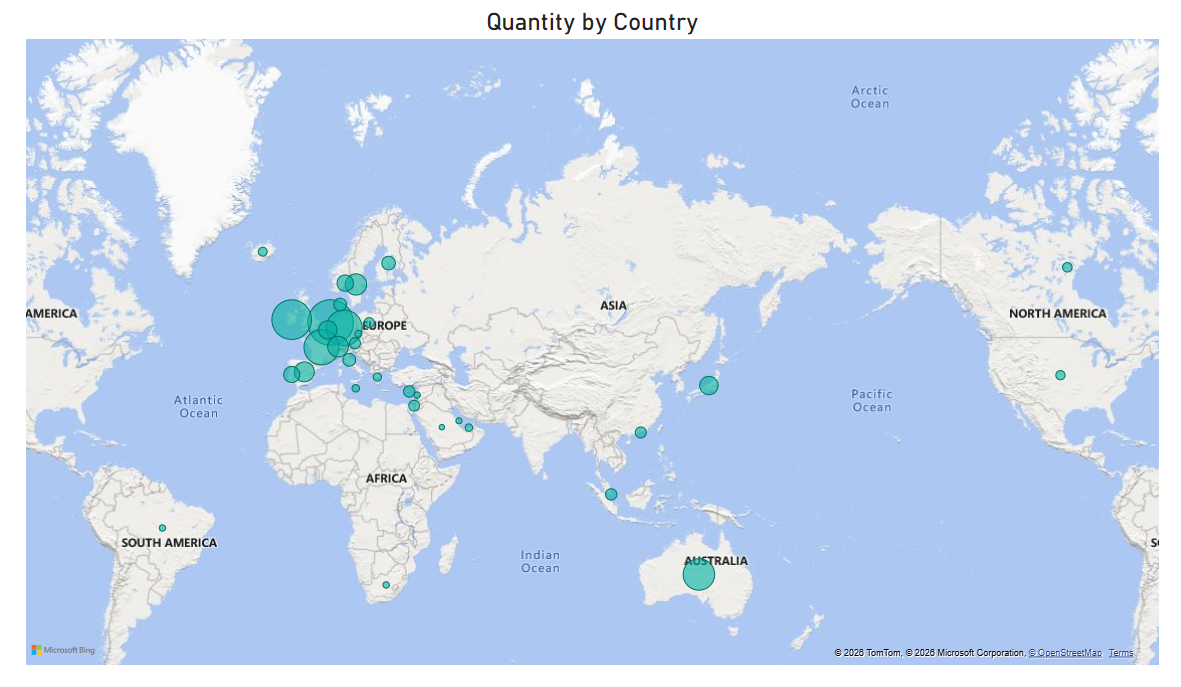

The dashboard page shown, as its layout file describes it:
{"tool":"powerbi","page":{"name":"Question 4","canvas":[1280,720],"ordinal":3},"visuals":[{"type":"map","fields":{"Category":["Online Retail.Country"],"Size":["Sum(Online Retail.Quantity)"]},"box":[70.9,29.9,1137,659.3],"z":0}]}

Visuals, with their boxes on the page's 1280x720 design canvas (x1, y1, x2, y2). These are canvas units, not pixel positions in the 1181x687 screenshot, which may show the page scaled, cropped or inside an application window:
map - Online Retail.Country x Sum(Online Retail.Quantity): <bbox>71, 30, 1208, 689</bbox>
